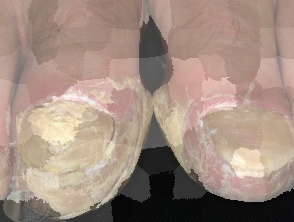Nail_psoriasis: (0, 70, 174, 222), (153, 79, 294, 204)
